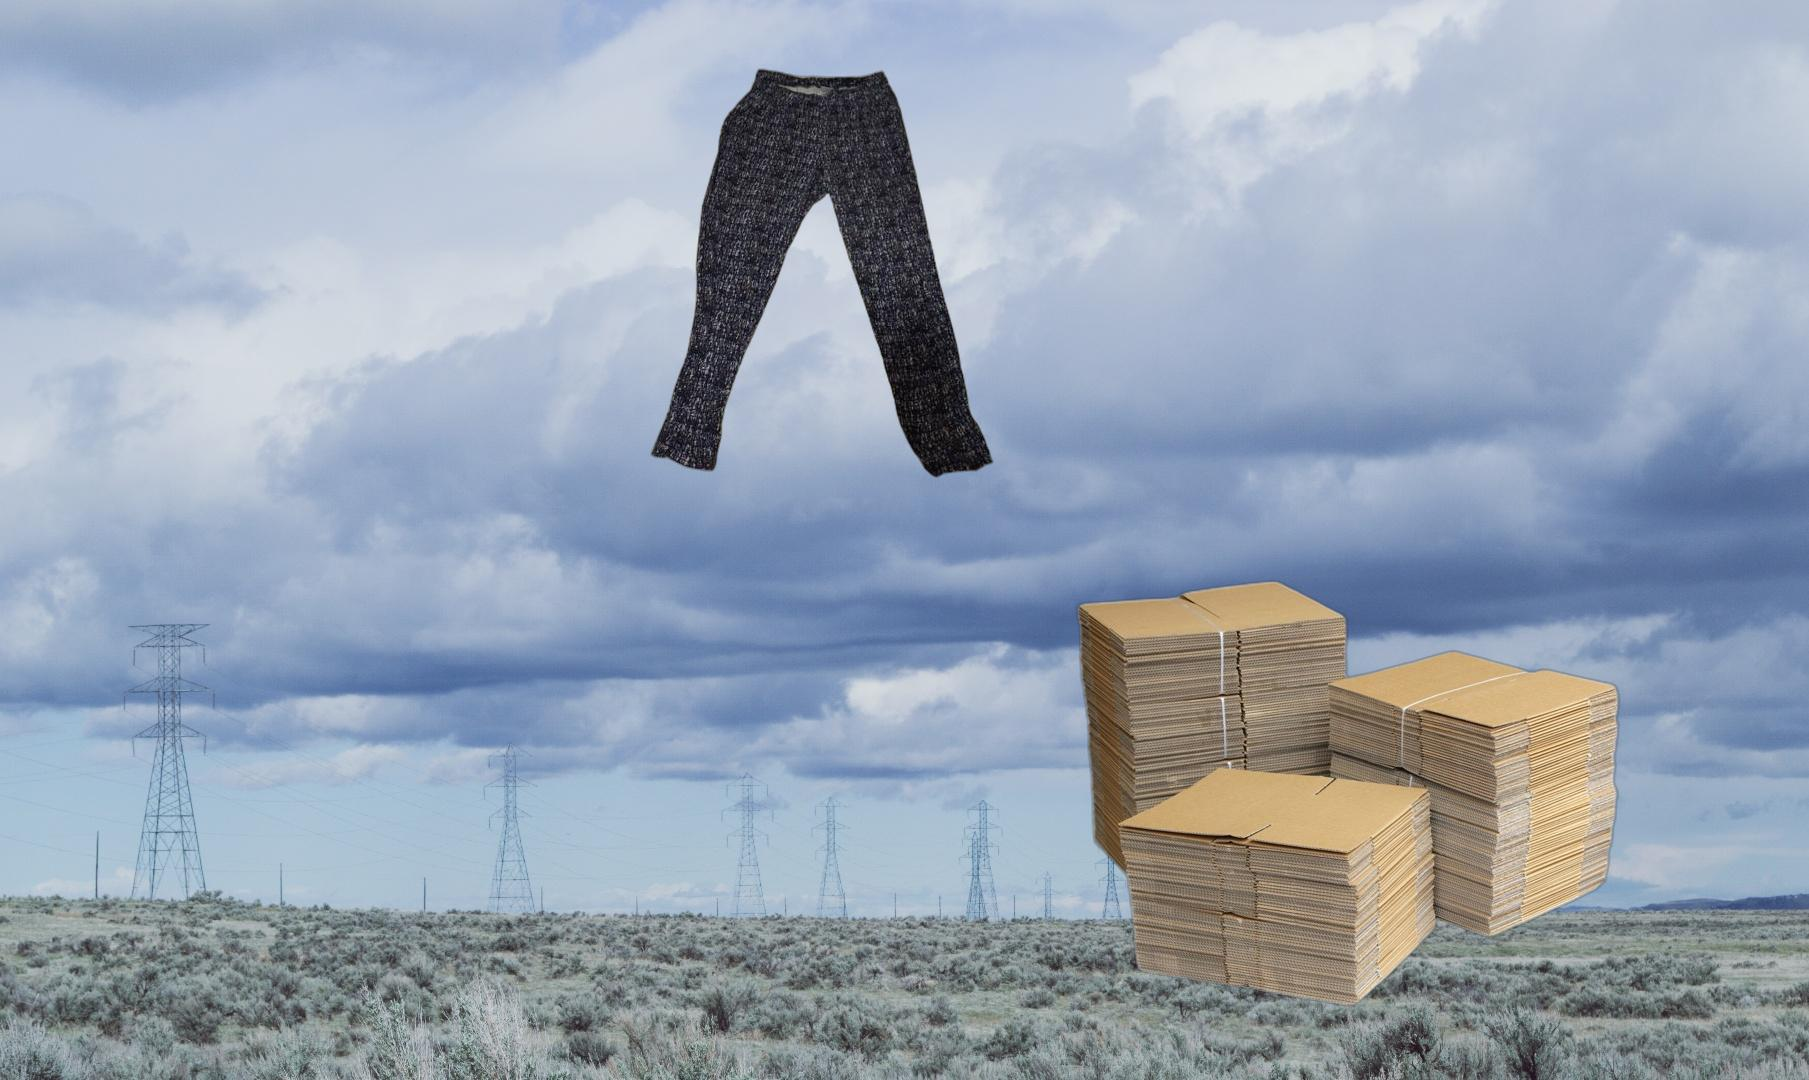clothes: (648, 60, 996, 481)
trashbox-cardboard: (1072, 576, 1624, 1011)
